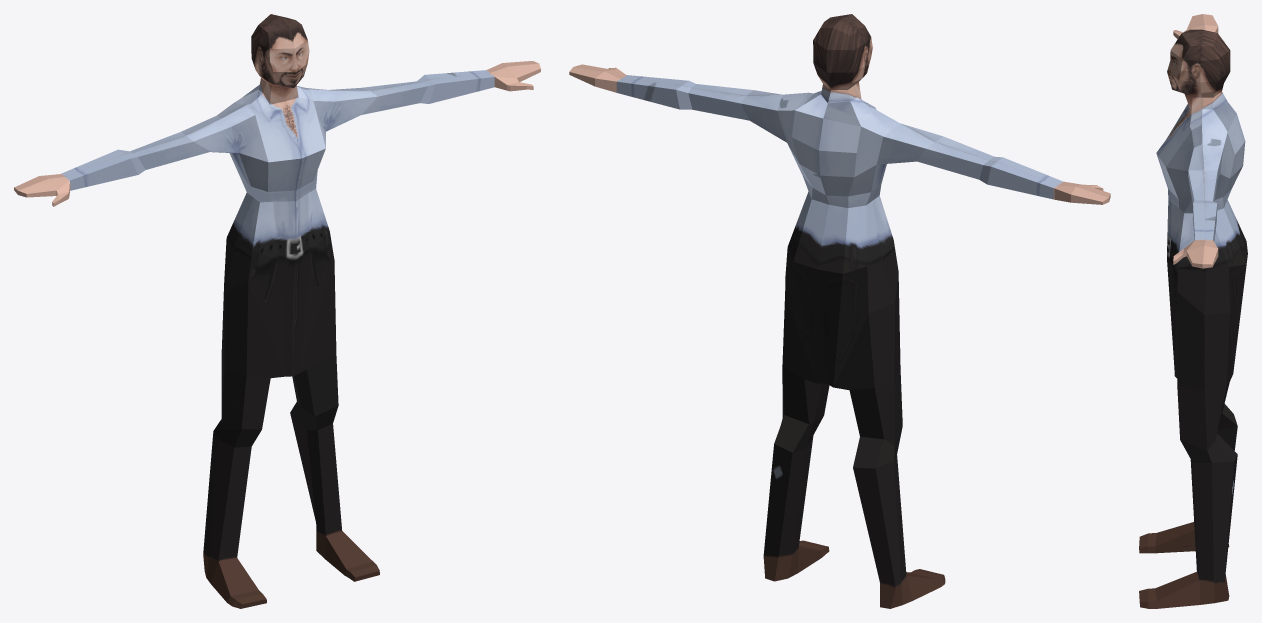
Rendered from kobitka.glb.
3 renders of one model, left to right at view 1: azimuth 30°, elevation 25°; view 2: azimuth 150°, elevation 25°; view 3: azimuth 270°, elevation 25°, orthographic. The views are drawn at different scales.
Parts seen in each view (by area): view 1: Cube.061; view 2: Cube.061; view 3: Cube.061.
Part boxes in pixels (x1=…): Cube.061: x1=14, y1=14, x2=540, y2=608; Cube.061: x1=569, y1=14, x2=1110, y2=608; Cube.061: x1=1139, y1=14, x2=1247, y2=608.
Size of the model in its own units: 4.42 by 4.48 by 0.8134.
1 material, 1 textured.
